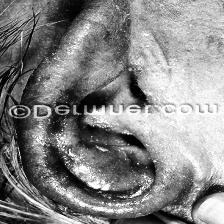Toxin: (37, 116, 67, 150)
